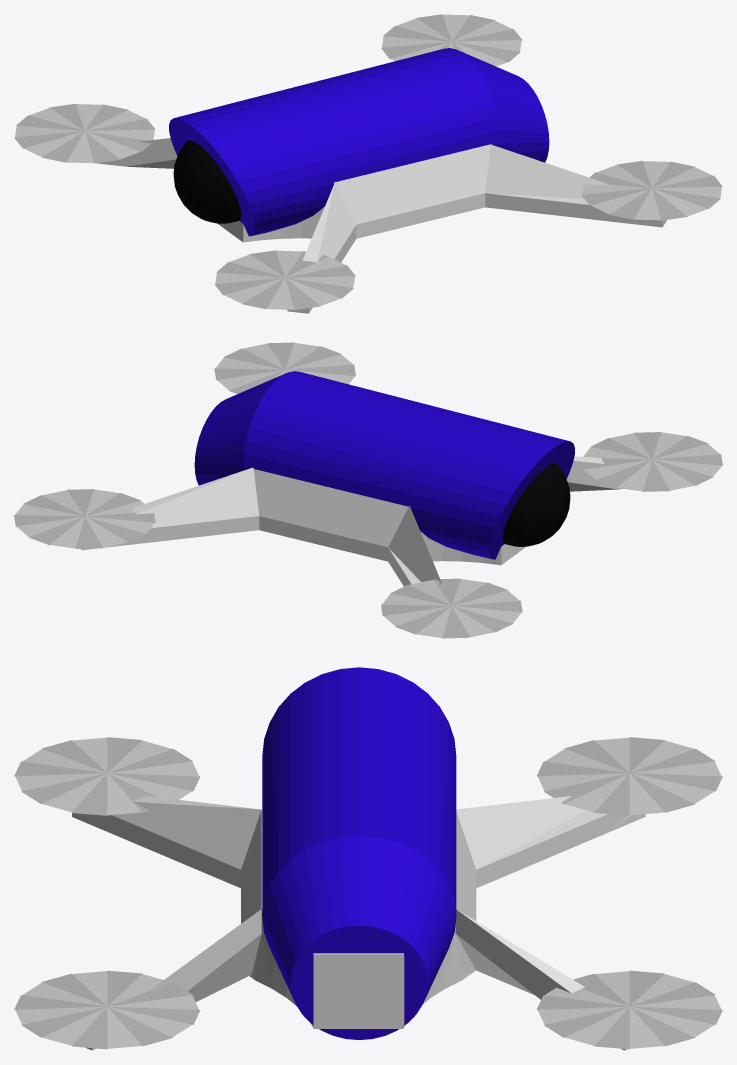
File: quadrotor_CAD.dae
3 views of the same model, one above another, from view 1: azimuth 30°, elevation 25°; view 2: azimuth 150°, elevation 25°; view 3: azimuth 270°, elevation 25° (orthographic). The views are drawn at different scales.
Parts seen in each view (by area): view 1: Cylinder, Body, MainBody_004, MainBody_002, MainBody_003, MainBody_000, Sphere; view 2: Cylinder, Body, MainBody_004, MainBody_000, MainBody_003, MainBody_002, Sphere; view 3: Cylinder, Body, MainBody_004, MainBody_002, MainBody_000, MainBody_003.
Part boxes in pixels (x1,y1,x2,y2): Cylinder: [169, 48, 549, 236]; Body: [97, 138, 666, 313]; MainBody_004: [14, 103, 155, 163]; MainBody_002: [581, 161, 722, 220]; MainBody_003: [214, 250, 355, 309]; MainBody_000: [381, 14, 522, 66]; Sphere: [173, 140, 241, 223]; Cylinder: [194, 371, 574, 559]; Body: [81, 456, 623, 586]; MainBody_004: [381, 578, 522, 638]; MainBody_000: [14, 489, 155, 548]; MainBody_003: [582, 432, 722, 491]; MainBody_002: [214, 342, 355, 393]; Sphere: [502, 463, 570, 546]; Cylinder: [262, 667, 456, 1039]; Body: [72, 796, 645, 1050]; MainBody_004: [537, 737, 722, 815]; MainBody_002: [14, 970, 200, 1049]; MainBody_000: [536, 970, 722, 1049]; MainBody_003: [14, 737, 200, 815].
Size of the model in its own units: 0.3607 by 0.346 by 0.0897.
